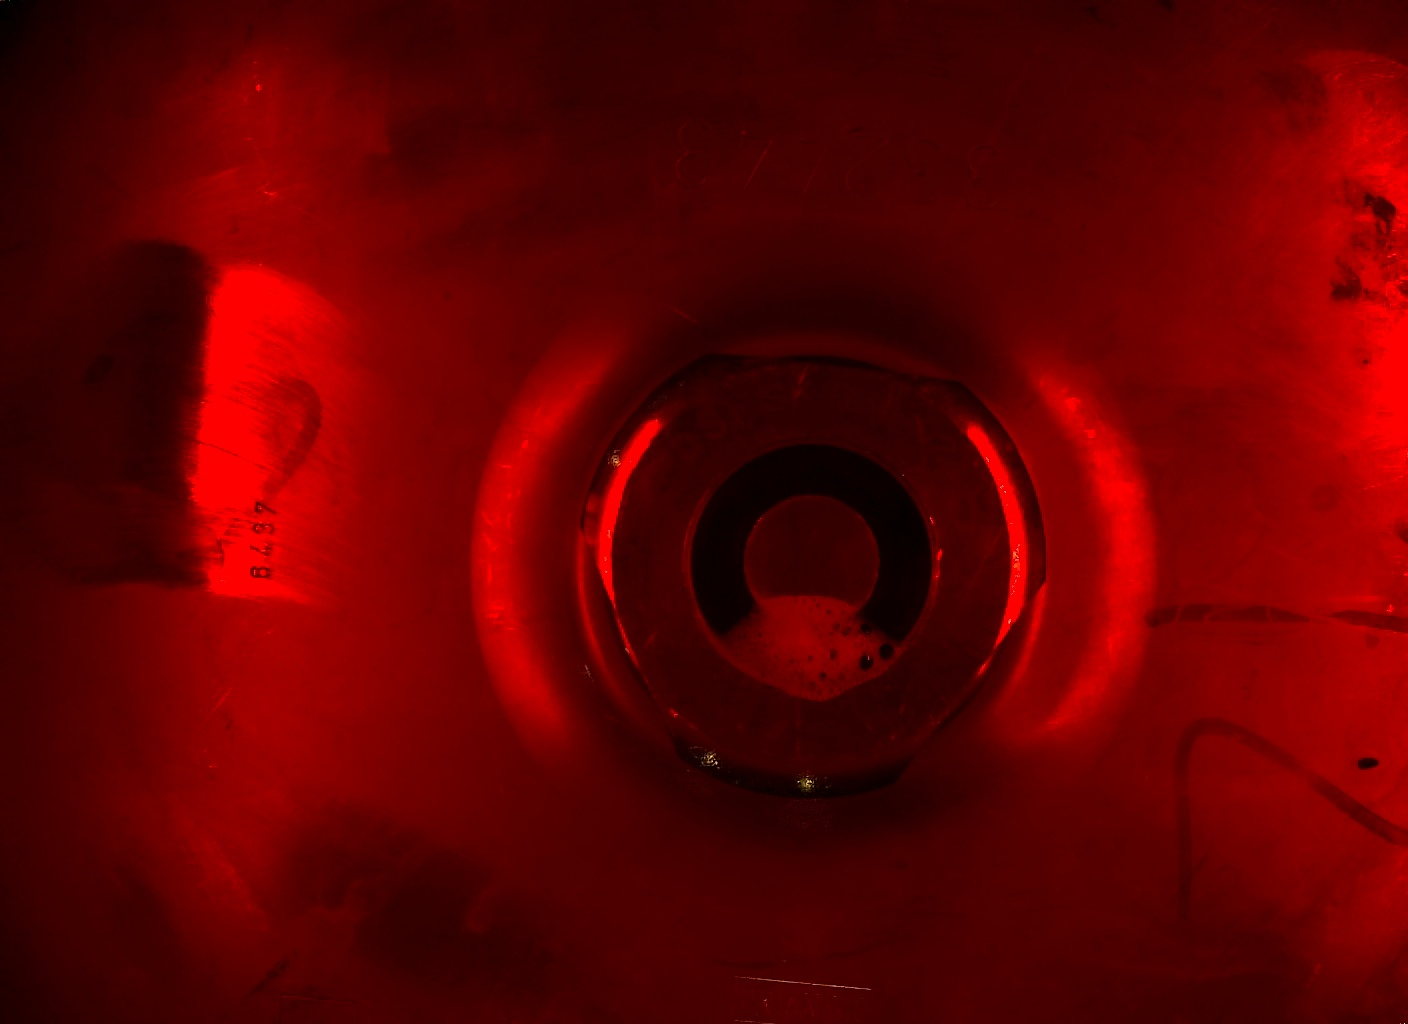pena: (708, 590, 905, 708)
